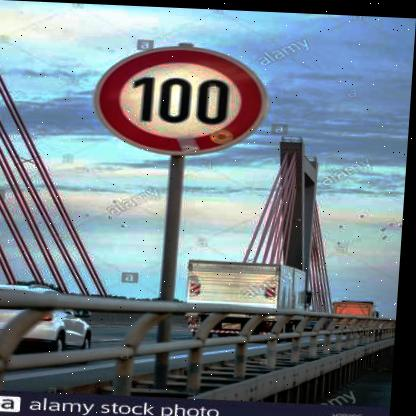Speed Limit -100-: (92, 40, 273, 162)
